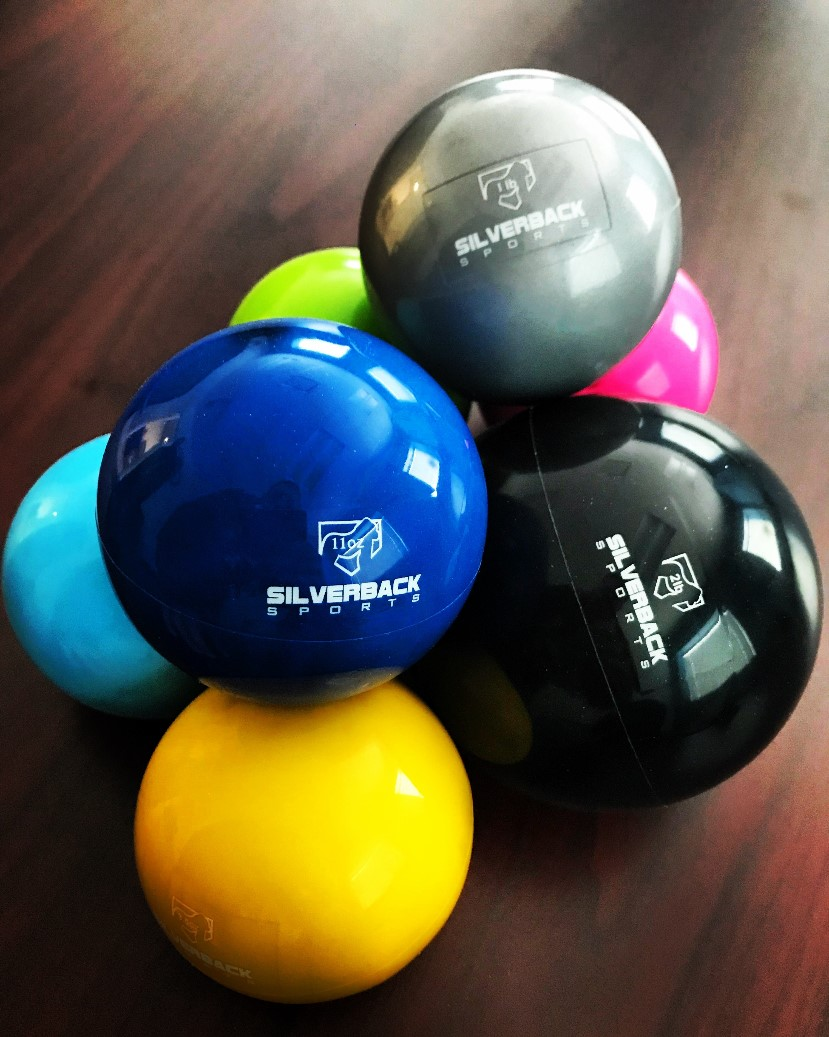blue ball: (97, 317, 490, 704), (3, 432, 202, 710)
